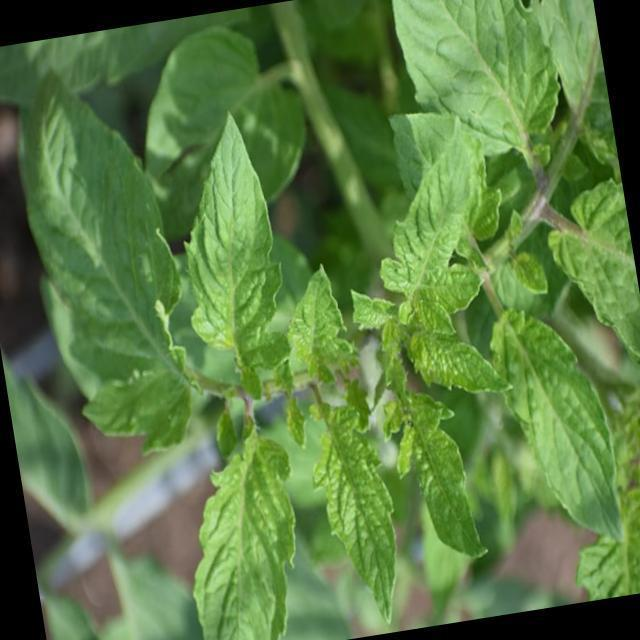Healthy Leaf: (2, 59, 188, 396), (166, 124, 292, 388), (494, 304, 626, 546), (181, 409, 318, 640), (367, 112, 512, 326), (303, 401, 407, 633), (379, 378, 492, 578), (72, 380, 202, 470), (280, 256, 356, 392), (403, 321, 518, 409)
